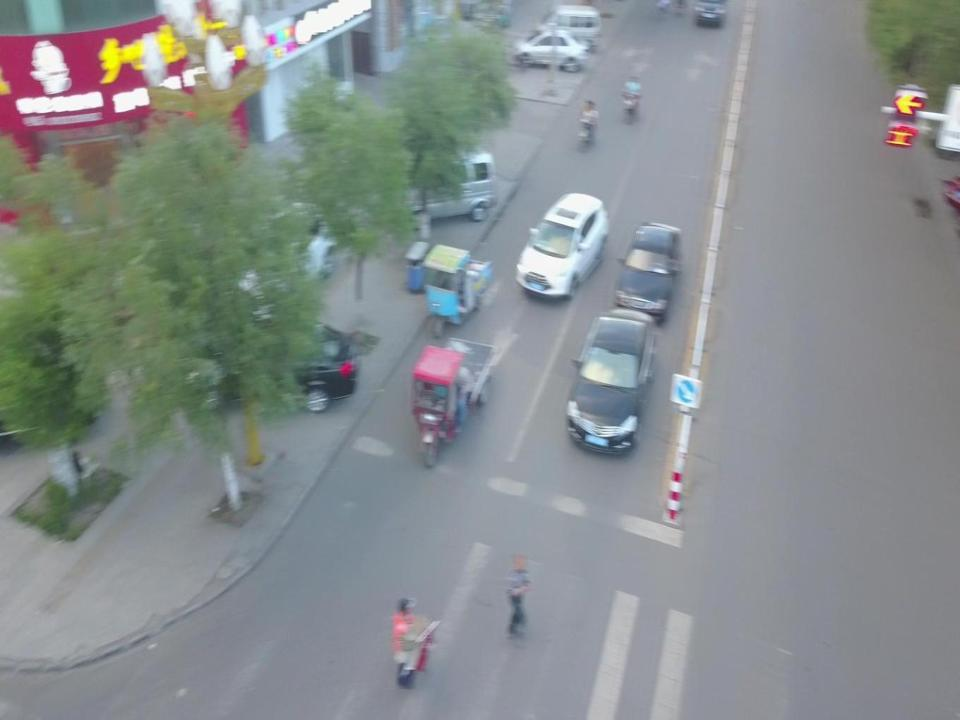car: (183, 319, 355, 415), (565, 308, 657, 456), (228, 200, 336, 321), (514, 191, 608, 299), (612, 222, 682, 319), (512, 25, 588, 72)
van: (398, 152, 498, 230), (535, 7, 600, 42)
